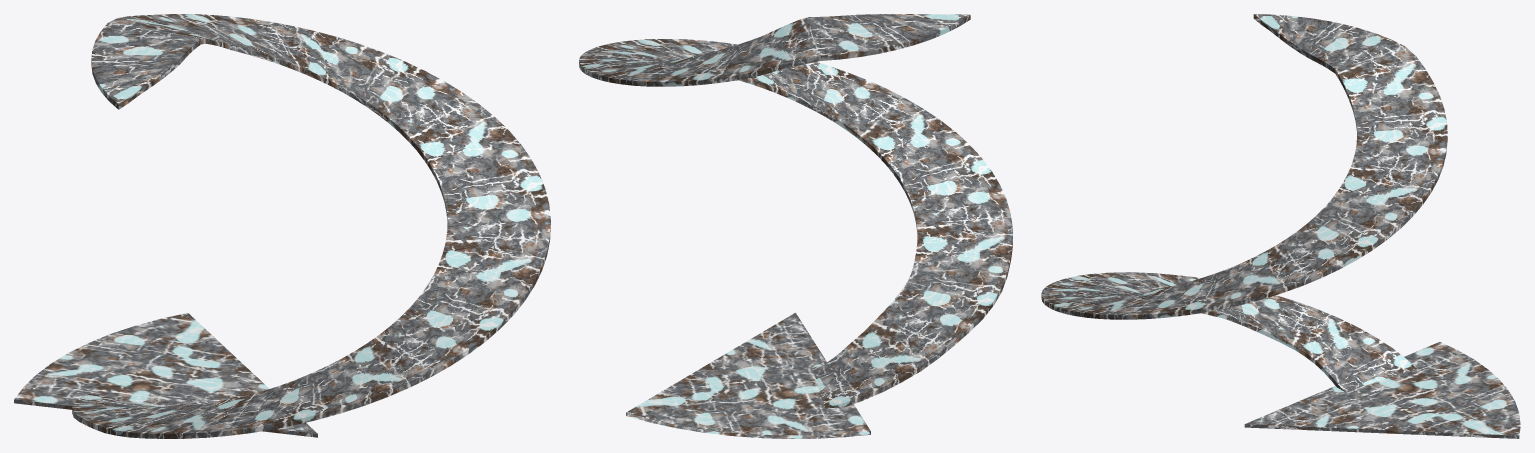
The model's file is field_winter_road6.fbx.
The picture shows the model from 3 angles, left to right: view 1: azimuth 30°, elevation 25°; view 2: azimuth 150°, elevation 25°; view 3: azimuth 270°, elevation 25°; orthographic projection. The views are drawn at different scales.
Visible parts, largest first — view 1: field_winter_road6; view 2: field_winter_road6; view 3: field_winter_road6.
Boxes of the visible parts, left/top/right/bottom form: field_winter_road6: left=14, top=14, right=550, bottom=438; field_winter_road6: left=579, top=14, right=1012, bottom=438; field_winter_road6: left=1041, top=14, right=1520, bottom=438.
Bounding box in the file's own units: 919 × 806 × 1059.
1 material, 1 textured.
